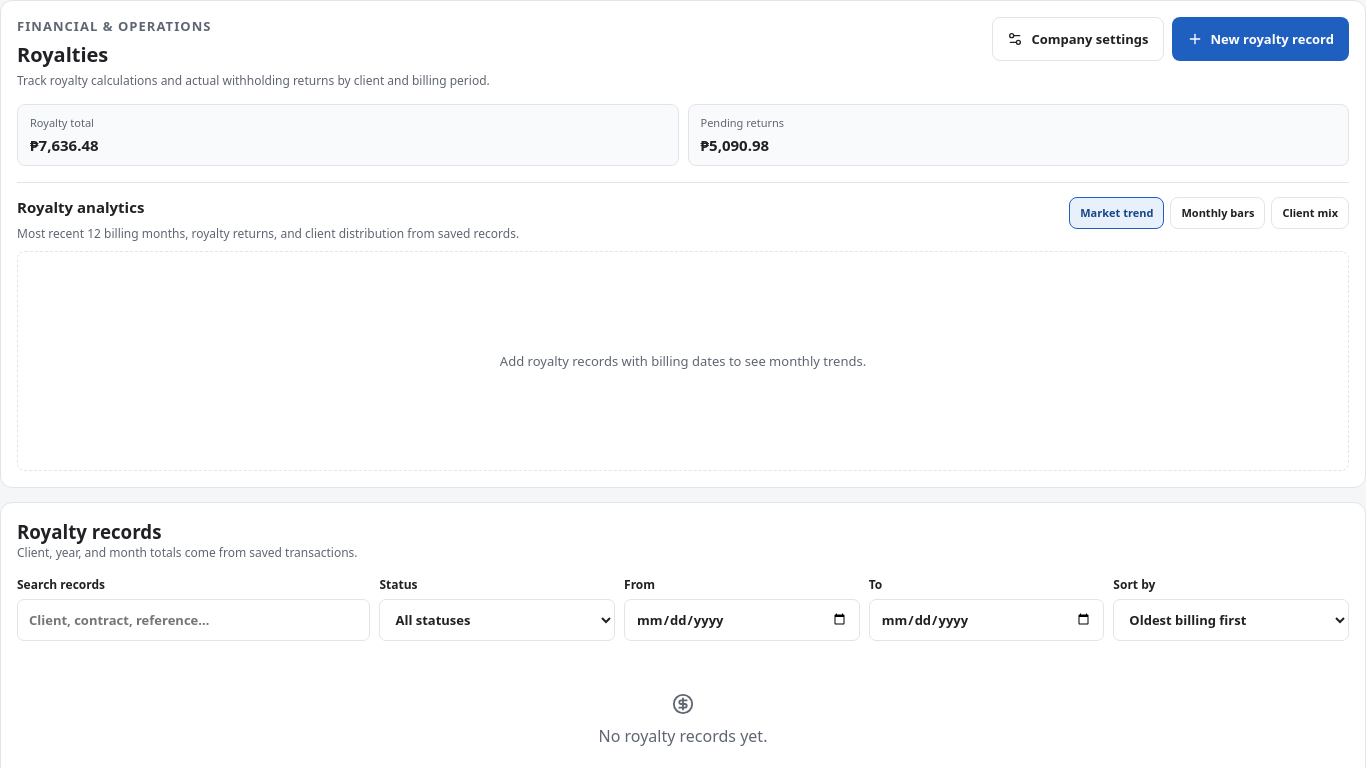
Test: RoyaltiesWorkspace › lets the user return from the themed confirmation without saving
Click the button "New royalty record" at [1260, 39], box [1172,17,1349,61]
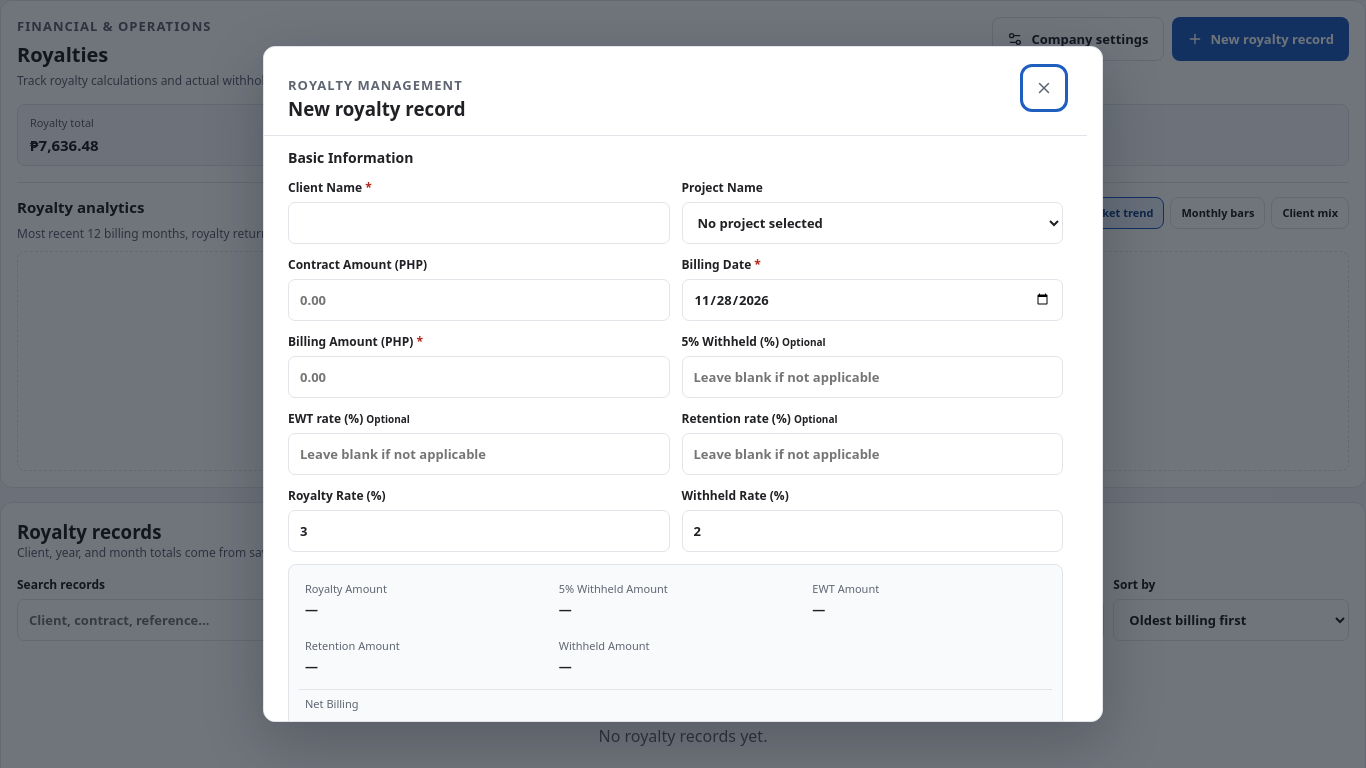
Type "John" into the field labelled "Client Name *" at [479, 223], box [288,202,670,244]
Type "1000" into the field labelled "Billing Amount (PHP) *" at [479, 377], box [288,356,670,398]
Type "1" into the number field labelled "EWT rate (%) Optional" at [479, 454], box [288,433,670,475]
(page scrolled)
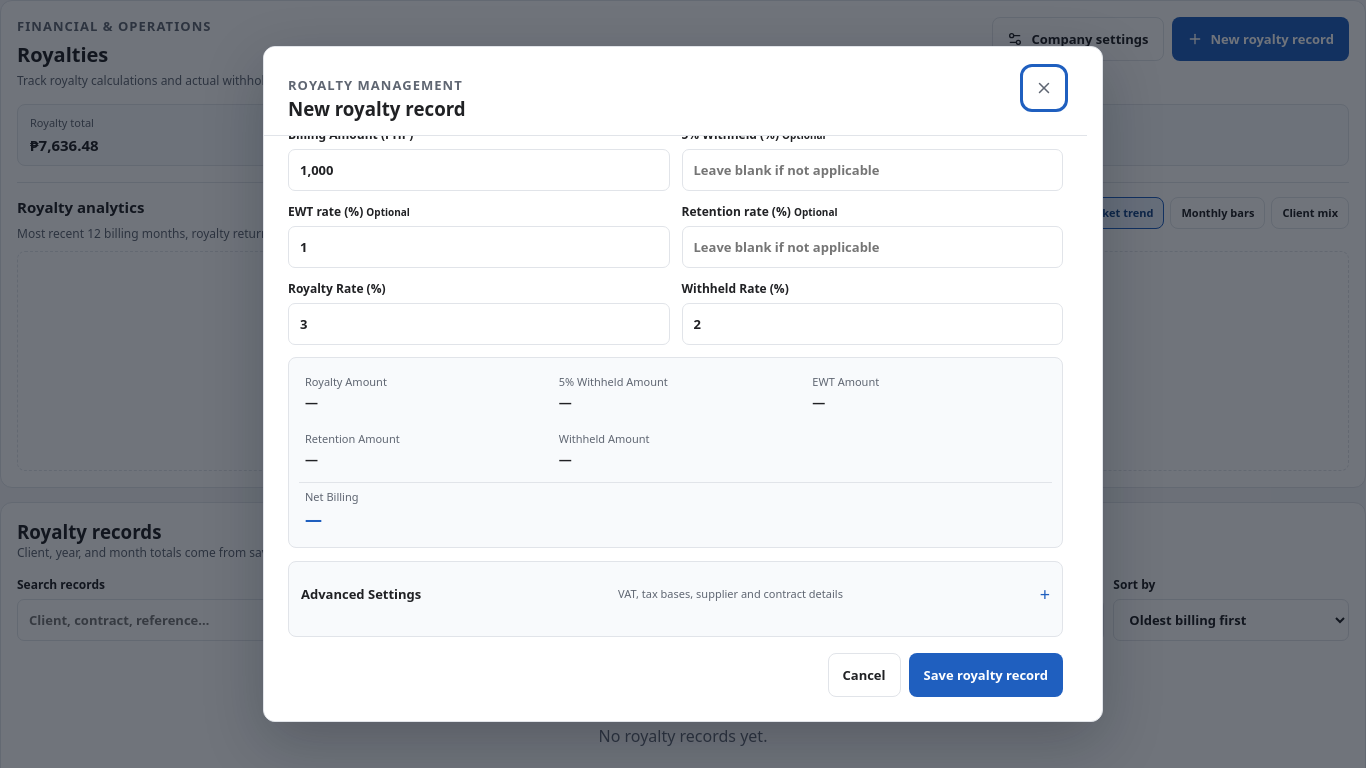
Click the text "Advanced Settings" at [361, 594], box [301,585,421,603]
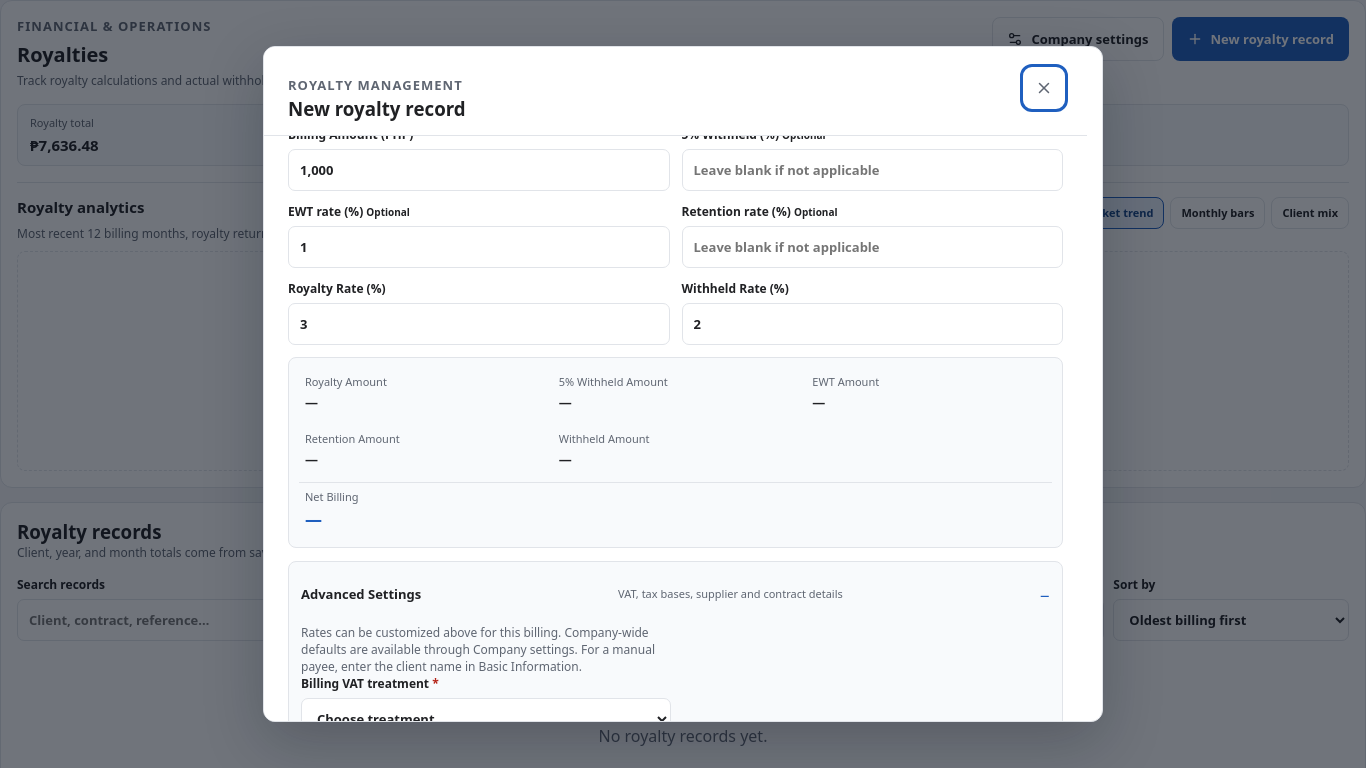
Select "Non-VAT" in the dropdown labelled "Billing VAT treatment *" at [486, 719], box [301,698,670,740]
(page scrolled)
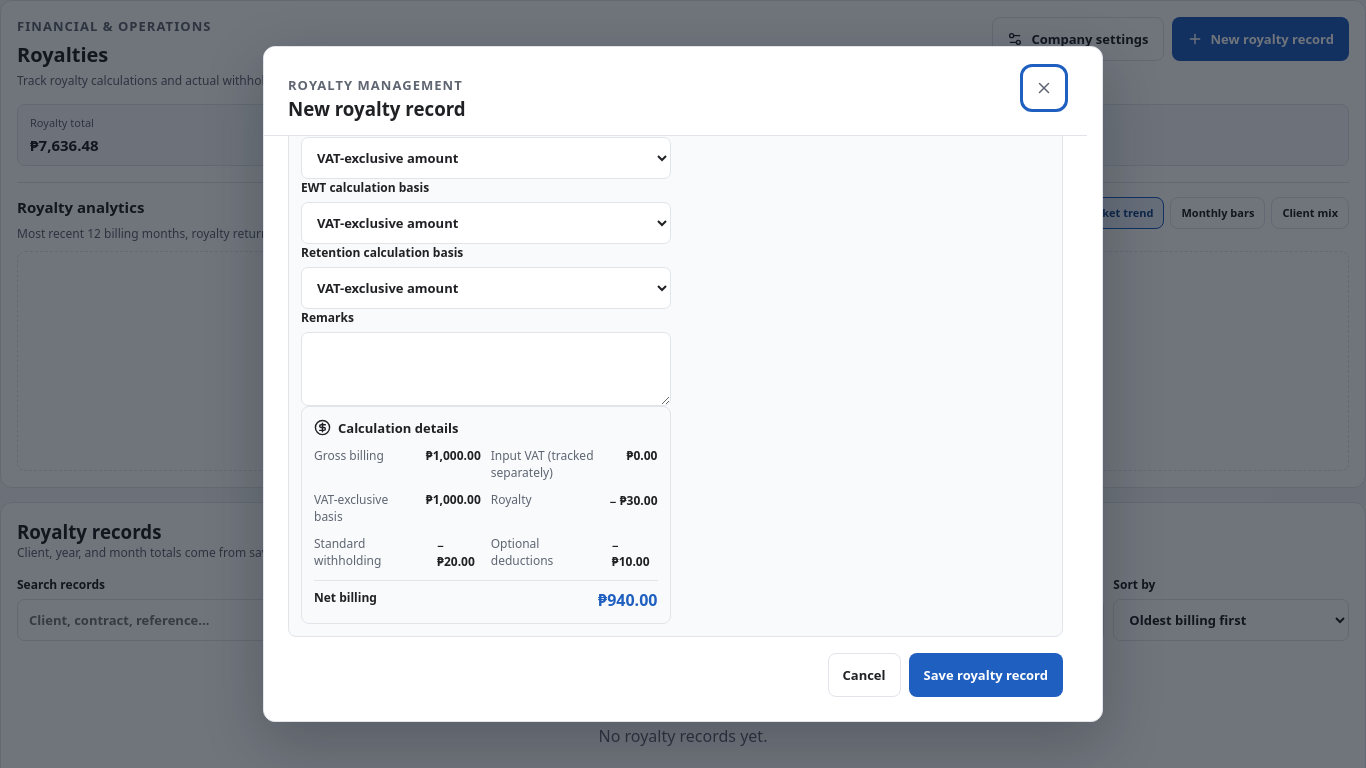
Click the button "Save royalty record" at [986, 675], box [908,653,1063,697]
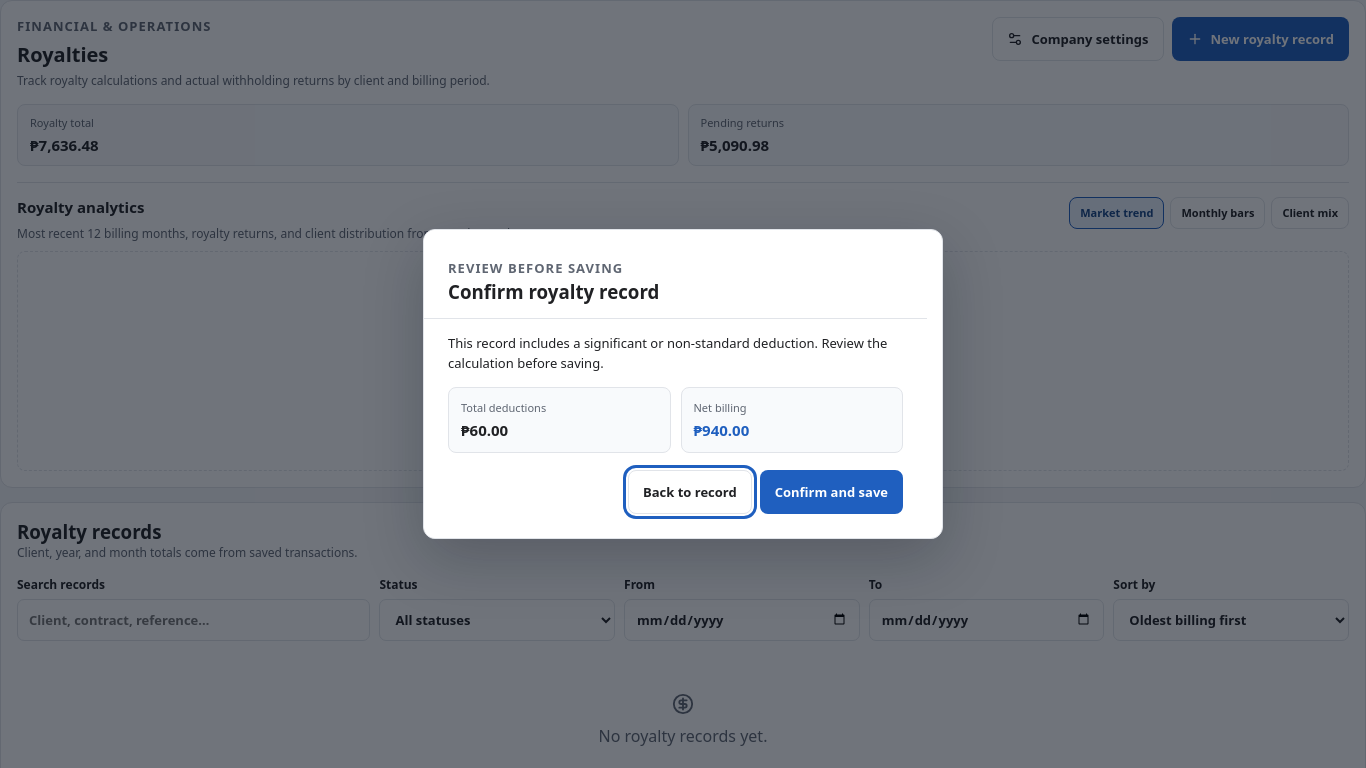
Expected: the dialog "Confirm royalty record" is shown, [423,229,943,539]
Click the button "Back to record" at [690, 492], box [628,470,752,514]
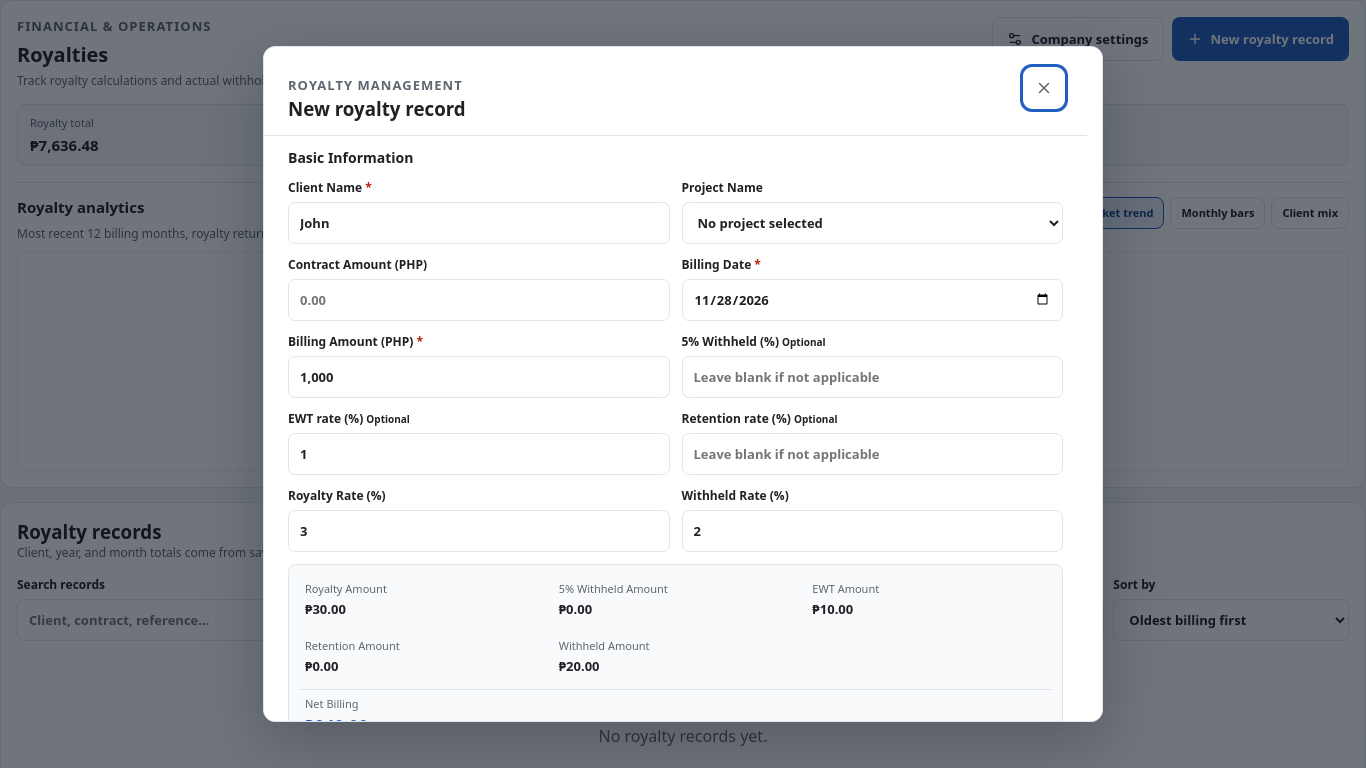
Expected: the dialog "New royalty record" is shown, [263,46,1103,722]
Expected: the field labelled "Billing Amount (PHP) *" holds "1,000", [288,356,670,398]
